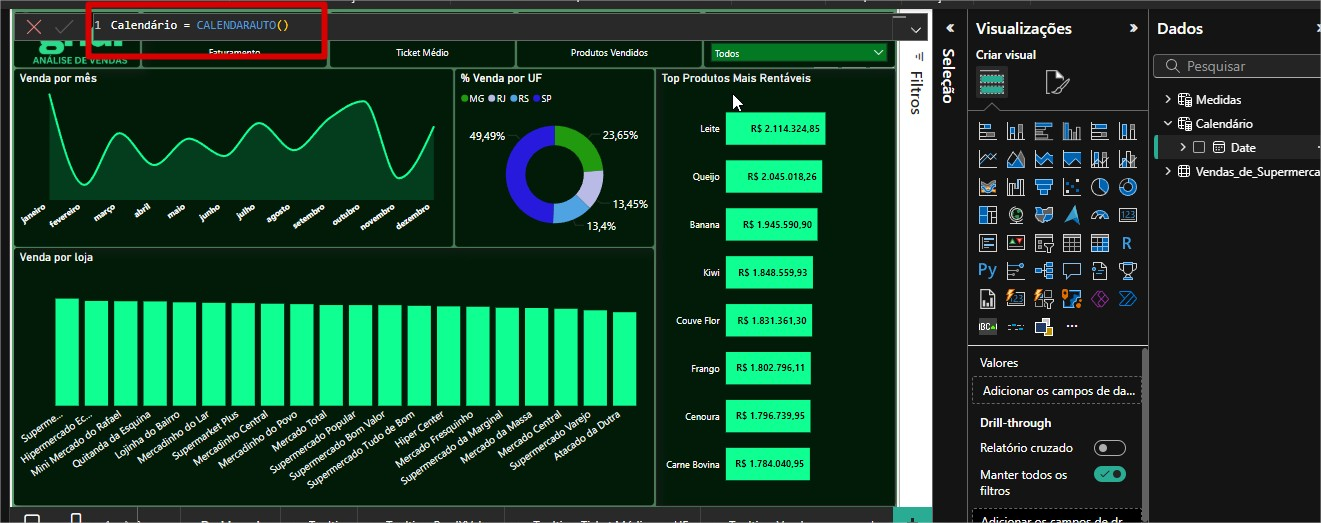

What the dashboard file says about the page in this screenshot:
{"tool":"powerbi","page":{"name":"Dashboard","canvas":[1280,720],"ordinal":1},"visuals":[{"type":"card","fields":{"Values":["Medidas.TotalDaVenda"]},"box":[188.5,4.3,267.5,79.5],"z":0},{"type":"clusteredBarChart","title":"Top Produtos Mais Rentáveis","fields":{"Category":["Vendas_de_Supermercado_no_Brasi.Nome do Produto"],"Y":["Medidas.VendaTotal"]},"box":[931,86.5,346,631.9],"z":1000},{"type":"card","fields":{"Values":["Medidas.TicketMédio"]},"box":[459.2,4.5,267.5,79.5],"z":2000},{"type":"card","fields":{"Values":["Medidas.QuantidadeProdutos"]},"box":[729.8,4.7,267.5,79.5],"z":3000},{"type":"card","fields":{"Values":["Medidas.QuantidadeProdutos"]},"box":[1000.5,4.8,276,79.5],"z":4000},{"type":"lineStackedColumnComboChart","title":"Venda por loja","fields":{"Category":["Vendas_de_Supermercado_no_Brasi.Nome da Loja"],"Y":["Medidas.VendaTotal"]},"box":[3.3,345.6,925,372],"z":5000},{"type":"lineChart","title":"Venda por mês","fields":{"Category":["Vendas_de_Supermercado_no_Brasi.DataVenda.Variation.Hierarquia de datas.Mês"],"Y":["Medidas.VendaTotal"]},"box":[3,86.5,635,257.4],"z":6000},{"type":"slicer","fields":{"Values":["Vendas_de_Supermercado_no_Brasi.DataVenda.Variation.Hierarquia de datas.Ano"]},"box":[996.7,8.3,280,35],"z":7000},{"type":"donutChart","title":"% Venda por UF","fields":{"Y":["Medidas.VendaTotal"],"Series":["Vendas_de_Supermercado_no_Brasi.UF da Compra"]},"box":[640.5,86.7,288,257.3],"z":8000},{"type":"slicer","fields":{"Values":["Vendas_de_Supermercado_no_Brasi.Nome da Loja"]},"box":[1000,38.3,275,45],"z":9000},{"type":"card","fields":{"Values":["Medidas.QuantidadeProdutos"]},"box":[3.3,5,182,80],"z":10000},{"type":"image","box":[13.3,8.3,171.7,86.7],"z":11000},{"type":"actionButton","box":[0,0,100,40],"z":12000}]}

Visuals, with their boxes on the page's 1280x720 design canvas (x1, y1, x2, y2). These are canvas units, not pixel positions in the 1321x523 screenshot, which may show the page scaled, cropped or inside an application window:
card - Medidas.TotalDaVenda: detection(188, 4, 456, 84)
"Top Produtos Mais Rentáveis" clusteredBarChart: detection(931, 86, 1277, 718)
card - Medidas.TicketMédio: detection(459, 4, 727, 84)
card - Medidas.QuantidadeProdutos: detection(730, 5, 997, 84)
card - Medidas.QuantidadeProdutos: detection(1000, 5, 1276, 84)
"Venda por loja" lineStackedColumnComboChart: detection(3, 346, 928, 718)
"Venda por mês" lineChart: detection(3, 86, 638, 344)
slicer - Vendas_de_Supermercado_no_Brasi.DataVenda.Variation.Hierarquia de datas.Ano: detection(997, 8, 1277, 43)
"% Venda por UF" donutChart: detection(640, 87, 928, 344)
slicer - Vendas_de_Supermercado_no_Brasi.Nome da Loja: detection(1000, 38, 1275, 83)
card - Medidas.QuantidadeProdutos: detection(3, 5, 185, 85)
image: detection(13, 8, 185, 95)
actionButton: detection(0, 0, 100, 40)
